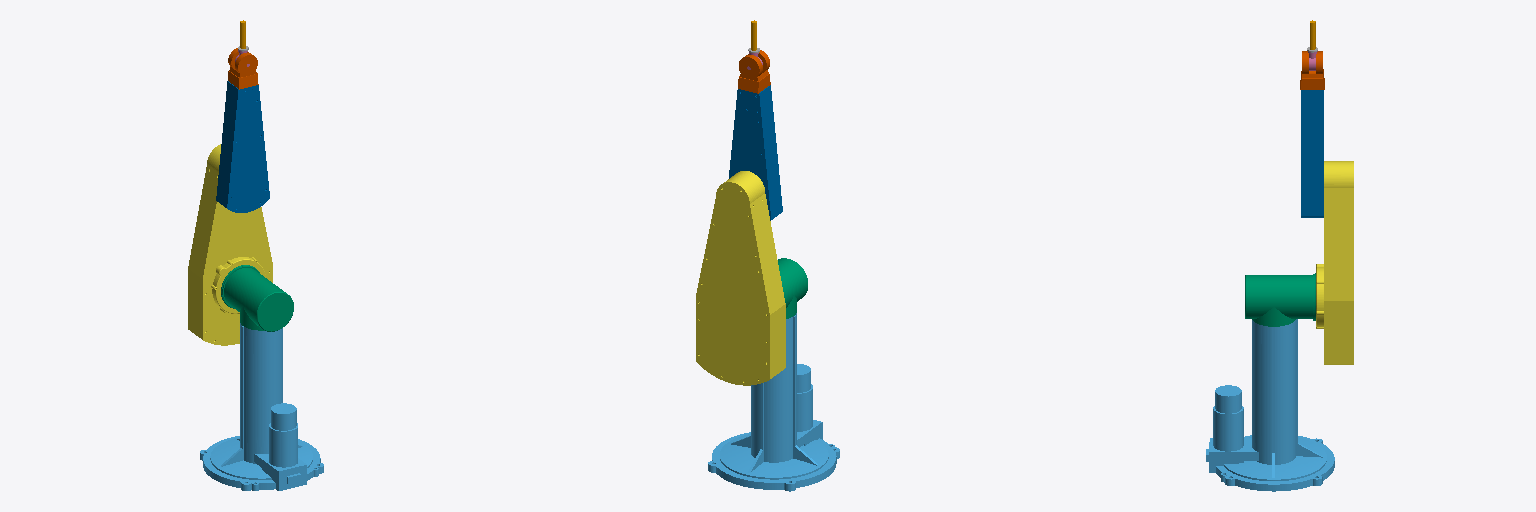
robot.urdf — puma01:
<?xml version="1.0"?>
<robot name="puma01">
  <origin xyz="0.0 0.0 0.0" rpy="0.0 0.0 0.0"/>

<!-- LINKS -->
  <link name="world"/> 
  <joint name="link_link0" type="fixed">
    <!-- <origin xyz="0.0 0.0 0.0" rpy="1.57079632679 0.0 3.14"/> -->
    <origin xyz="0.0 0.0 0.0" rpy="0.0 0.0 0.0"/>
    <parent link="world"/>
    <child link="link0"/>
  </joint>

  <link name="link0">
    <visual>
      <origin xyz="0.0 0.0 0.0" rpy="1.57079632679 0.0 3.14"/>
      <geometry>
        <mesh filename="package://puma01_description/meshes/link0.dae"/>
      </geometry>
    </visual>
    <collision>
      <origin xyz="0.0 0.0 0.0" rpy="1.57079632679 0.0 3.14"/>
      <geometry>
        <mesh filename="package://puma01_description/meshes/link0.dae"/>
      </geometry>
    </collision>
    <inertial>
      <origin xyz="0.0  0.1925 -0.0219" rpy="1.57079632679 0.0 3.14"/>
      <mass value="30.0"/>
      <inertia ixx="1.045642" ixy="0.0" ixz="0.0"  iyy="0.305407" iyz="-0.042116" izz="0.958215"/>
    </inertial>
  </link>
  
  <link name="link1">
    <visual>
      <origin xyz="0.0 0.0 0.0" rpy="0.0 0.0 0.0"/>
      <geometry>
        <mesh filename="package://puma01_description/meshes/link1.dae"/>
      </geometry>
    </visual>
    <collision>
      <origin xyz="0.0 0.0 0.0" rpy="0.0 0.0 0.0"/>
      <geometry>
        <mesh filename="package://puma01_description/meshes/link1.dae"/>
      </geometry>
    </collision>
    <inertial>
      <origin xyz="0.0 0.0225 -0.0028"/>
      <mass value="12"/>
      <inertia ixx="0.073957" ixy="0.0" ixz="0.0"  iyy="0.036037" iyz="-0.000754" izz="0.073514"/>
    </inertial>
  </link>
  
  <link name="link2">
    <visual>
      <origin xyz="0.0 0.0 0.0" rpy="0.0 0.0 0.0"/>
      <geometry>
        <mesh filename="package://puma01_description/meshes/link2.dae"/>
      </geometry>
    </visual>
    <collision>
      <origin xyz="0.0 0.0 0.0" rpy="0.0 0.0 0.0"/>
      <geometry>
        <mesh filename="package://puma01_description/meshes/link2.dae"/>
      </geometry>
    </collision>
    <inertial>
      <origin xyz="0.068 0.006 -0.016"/>
      <mass value="17.4"/>
      <inertia ixx="0.13" ixy="0.0" ixz="0.0"  iyy="0.524" iyz="0.0" izz="0.539"/>
    </inertial>
  </link>
  
  <link name="link3">
    <visual>
      <origin xyz="0.0 0.0 0.0" rpy="0.0 0.0 0.0"/>
      <geometry>
        <mesh filename="package://puma01_description/meshes/link3.dae"/>
      </geometry>
    </visual>
    <collision>
      <origin xyz="0.0 0.0 0.0" rpy="0.0 0.0 0.0"/>
      <geometry>
        <mesh filename="package://puma01_description/meshes/link3.dae"/>
      </geometry>
    </collision>
    <inertial>
      <origin xyz="0.0 -0.07 0.014"/>
      <mass value="4.8"/>
      <inertia ixx="0.076" ixy="0.0" ixz="0.0"  iyy="0.0125" iyz="0.0" izz="0.086"/>
    </inertial>
  </link>
  
  <link name="link4">
    <visual>
      <origin xyz="0.0 0.0 0.0" rpy="0.0 0.0 0.0"/>
      <geometry>
        <mesh filename="package://puma01_description/meshes/link4.dae"/>
      </geometry>
    </visual>
    <collision>
      <origin xyz="0.0 0.0 0.0" rpy="0.0 0.0 0.0"/>
      <geometry>
        <mesh filename="package://puma01_description/meshes/link4.dae"/>
      </geometry>
    </collision>
    <inertial>
      <origin xyz="0.0 0.0 -0.019"/>
      <mass value="0.82"/>
      <inertia ixx="0.0018" ixy="0.0" ixz="0.0"  iyy="0.0018" iyz="0.0" izz="0.0013"/>
    </inertial>
  </link>
  
  <link name="link5">
    <visual>
      <origin xyz="0.0 0.0 0.0" rpy="0.0 0.0 0.0"/>
      <geometry>
        <mesh filename="package://puma01_description/meshes/link5.dae"/>
      </geometry>
    </visual>
      <collision>
      <origin xyz="0.0 0.0 0.0" rpy="0.0 0.0 0.0"/>
      <geometry>
        <mesh filename="package://puma01_description/meshes/link5.dae"/>
      </geometry>
    </collision>
    <inertial>
      <origin xyz="0.0 0.0 0.0"/>
      <mass value="0.34"/>
      <inertia ixx="0.0003" ixy="0.0" ixz="0.0"  iyy="0.0003" iyz="0.0" izz="0.0004"/>
    </inertial>
  </link>
  
  <link name="link6">
    <visual>
      <origin xyz="0.0 0.0 0.0" rpy="0.0 0.0 0.0"/>
      <geometry>
        <mesh filename="package://puma01_description/meshes/link6.dae"/>
      </geometry>
    </visual>
      <collision>
      <origin xyz="0.0 0.0 0.0" rpy="0.0 0.0 0.0"/>
      <geometry>
        <mesh filename="package://puma01_description/meshes/link6.dae"/>
      </geometry>
    </collision>
    <inertial>
      <origin xyz="0.0 0.0 0.032"/>
      <mass value="0.09"/>
      <inertia ixx="0.00015" ixy="0.0" ixz="0.0"  iyy="0.00015" iyz="0.0" izz="0.00004"/>
    </inertial>
  </link>

  <link name="link_T">
    <inertial>
      <mass value="0.001"/>
      <origin rpy="0  0  0" xyz="0  0  0.05"/>
      <inertia ixx="0" ixy="0" ixz="0" iyy="0" iyz="0" izz="0"/>                    
    </inertial>
    <visual>
      <origin rpy="0  0  0" xyz="0 0 0.05"/>
      <geometry>
        <cylinder length="0.1" radius="0.01"/> 
      </geometry>
    </visual>
    <collision>
      <origin rpy="0  0 0" xyz="0 0 0.05"/>
      <geometry>
        <cylinder length="0.1" radius="0.01"/>
      </geometry>
    </collision>
  </link>

<!-- ADVANCED LINK PARAMETERS --> 
    
  <gazebo reference="link1">
    <visual>  
      <material>  
        <ambient>255.0 136.0 0.0 1.0</ambient>  
        <diffuse>245.0 155.0 51.0 1.0</diffuse>  
        <specular>232.0 171.0 102.0 1.0</specular>  
        <emissive>1.7 3.8 4.4 1.0</emissive>  
      </material>  
    </visual>
  </gazebo>
  
  <gazebo reference="link2">
    <visual>  
      <material>  
        <ambient>17.0 38.0 44.0 1.0</ambient>  
        <diffuse>17.0 38.0 44.0 1.0</diffuse>  
        <specular>17.0 38.0 44.0 1.0</specular>  
        <emissive>1.7 3.8 4.4 1.0</emissive>  
      </material>  
    </visual>
  </gazebo>
  
  <gazebo reference="link3">
    <visual>  
      <material>  
        <ambient>255.0 136.0 0.0 1.0</ambient>  
        <diffuse>245.0 155.0 51.0 1.0</diffuse>  
        <specular>232.0 171.0 102.0 1.0</specular>  
        <emissive>1.7 3.8 4.4 1.0</emissive>  
      </material>  
    </visual>
  </gazebo>
  
  <gazebo reference="link4">
    <visual>  
      <material>  
        <ambient>17.0 38.0 44.0 1.0</ambient>  
        <diffuse>17.0 38.0 44.0 1.0</diffuse>  
        <specular>17.0 38.0 44.0 1.0</specular>  
        <emissive>1.7 3.8 4.4 1.0</emissive>  
      </material>  
    </visual>
  </gazebo>
  
  <gazebo reference="link5">
    <visual>  
      <material>  
        <ambient>255.0 136.0 0.0 1.0</ambient>  
        <diffuse>245.0 155.0 51.0 1.0</diffuse>  
        <specular>232.0 171.0 102.0 1.0</specular>  
        <emissive>1.7 3.8 4.4 1.0</emissive>  
      </material>  
    </visual>
  </gazebo>
  
  <gazebo reference="link6">
    <visual>  
      <material>  
        <ambient>17.0 38.0 44.0 1.0</ambient>  
        <diffuse>17.0 38.0 44.0 1.0</diffuse>  
        <specular>17.0 38.0 44.0 1.0</specular>  
        <emissive>1.7 3.8 4.4 1.0</emissive>  
      </material>  
    </visual>
  </gazebo>

  <gazebo reference="link_T">
      <visual>  
      <material>  
        <ambient>17.0 38.0 44.0 1.0</ambient>  
        <diffuse>17.0 38.0 44.0 1.0</diffuse>  
        <specular>17.0 38.0 44.0 1.0</specular>  
        <emissive>1.7 3.8 4.4 1.0</emissive>  
      </material>  
    </visual>
    <kp>600.0</kp>
    <kd>200.0</kd>
    <mu1>0.9</mu1>
    <mu2>0.9</mu2>
    <fdir1>1 0 0</fdir1>
    <maxVel>0.5</maxVel>
    <minDepth>0.003</minDepth>
    <maxContacts>5</maxContacts>
    <gravity>false</gravity>
  </gazebo>

<!-- JOINTS -->    
  <joint name="joint_1" type="revolute">
    <origin xyz="0.0  0.0 0.62357" rpy="0.0 0.0 0.0"/>
    <parent link="link0"/>
    <child link="link1"/>
    <axis xyz="0.0 0.0 1.0"/>
    <dynamics damping="0.5" friction="0.0"/>
    <!-- angle range = 5.585 -->
    <limit effort="150.0" velocity="10.0" lower="-2.79" upper="2.79" />
  </joint>
  
  <joint name="joint_2" type="revolute">
    <origin xyz="0.0 0.2182 0.0" rpy="-1.57079632679 -1.57079632679 0.0"/>
    <parent link="link1"/>
    <child link="link2"/>
    <axis xyz="0.0 0.0 1.0"/>
    <dynamics damping="0.5" friction="0.0"/>
    <!-- angle range = 4.6425 -->
    <limit effort="150.0" velocity="10.0" lower="-2.32" upper="2.32" />   
  </joint>
  
  <joint name="joint_3" type="revolute">
    <origin xyz="0.4318 0.0 -0.0889" rpy="0.0 0.0 1.57079632679"/>
    <parent link="link2"/>
    <child link="link3"/>
    <axis xyz="0.0 0.0 1.0"/>
    <dynamics damping="0.5" friction="0.0"/>
    <!-- angle range = 4.9567 -->
    <limit effort="150.0" velocity="10.0" lower="-2.478" upper="2.478" />
  </joint>
    
  <joint name="joint_4" type="revolute">
    <origin xyz="0.0 -0.43202 0.0" rpy="1.57079632679 0.0 0.0"/>
    <parent link="link3"/>
    <child link="link4"/>
    <axis xyz="0.0 0.0 1.0"/>
    <!-- angle range = 4.8869 -->
    <limit effort="150.0" velocity="10.0" lower="-1.92" upper="2.97" /> <!-- ???? -->
  </joint>
  
  <joint name="joint_5" type="revolute">
    <origin xyz="0.0 0.0 0.0" rpy="-1.57079632679 0.0 0.0"/>
    <parent link="link4"/>
    <child link="link5"/>
    <axis xyz="0.0 0.0 1.0"/>
    <!-- angle range = 3.4906 -->
    <limit effort="150.0" velocity="10.0" lower="-1.74" upper="1.74" />
  </joint>
  
  <joint name="joint_6" type="revolute">
    <origin xyz="0.0 0.0 0.0" rpy="1.57079632679 0.0 0.0"/>
    <parent link="link5"/>
    <child link="link6"/>
    <axis xyz="0.0 0.0 1.0"/>
   <!-- angle range = 9.2851 -->
    <limit effort="150.0" velocity="10.0" lower="-4.64" upper="4.64" /> <!-- ???? -->
  </joint>

  <joint name="joint_6_T" type="revolute">
    <origin xyz="0.0 0.0 0.05334" rpy="0 0 0"/>
    <parent link="link6"/>
    <child link="link_T"/>
    <axis xyz="0.0 0.0 1.0"/>
    <dynamics damping="0.0" friction="0.0"/>
    <limit effort="1.0" velocity="1.0" lower="0" upper="0" />
  </joint>

<!-- ROS CONTROL -->   
  <gazebo>
    <plugin name="gazebo_ros_control" filename="libgazebo_ros_control.so">
    <!-- namespace for simulation -->
    <robotNamespace>/puma01_sim</robotNamespace>
    <legacyModeNS>true</legacyModeNS>
    <robotBaseFrame>link0</robotBaseFrame>
    </plugin>
  </gazebo>

<!-- TRANSMISSIONS -->     
  <transmission name="trans_1">
    <type>transmission_interface/SimpleTransmission</type>
    <joint name="joint_1">
      <hardwareInterface>hardware_interface/EffortJointInterface</hardwareInterface>
    </joint>
    <actuator name="motor_1">
      <mechanicalReduction>1</mechanicalReduction>
    </actuator>
  </transmission>
  
  <transmission name="trans_2">
    <type>transmission_interface/SimpleTransmission</type>
    <joint name="joint_2">
      <hardwareInterface>hardware_interface/EffortJointInterface</hardwareInterface>
    </joint>
    <actuator name="motor_2">
      <mechanicalReduction>1</mechanicalReduction>
    </actuator>
  </transmission>
  
  <transmission name="trans_3">
    <type>transmission_interface/SimpleTransmission</type>
    <joint name="joint_3">
      <hardwareInterface>hardware_interface/EffortJointInterface</hardwareInterface>
    </joint>
    <actuator name="motor_3">
      <mechanicalReduction>1</mechanicalReduction>
    </actuator>
  </transmission>
  
  <transmission name="trans_4">
    <type>transmission_interface/SimpleTransmission</type>
    <joint name="joint_4">
      <hardwareInterface>hardware_interface/EffortJointInterface</hardwareInterface>
    </joint>
    <actuator name="motor_4">
      <mechanicalReduction>1</mechanicalReduction>
    </actuator>
  </transmission>
  
  <transmission name="trans_5">
    <type>transmission_interface/SimpleTransmission</type>
    <joint name="joint_5">
      <hardwareInterface>hardware_interface/EffortJointInterface</hardwareInterface>
    </joint>
    <actuator name="motor_5">
      <mechanicalReduction>1</mechanicalReduction>
    </actuator>
  </transmission>
  
  <transmission name="trans_6">
    <type>transmission_interface/SimpleTransmission</type>
    <joint name="joint_6">
      <hardwareInterface>hardware_interface/EffortJointInterface</hardwareInterface>
    </joint>
    <actuator name="motor_6">
      <mechanicalReduction>1</mechanicalReduction>
    </actuator>
  </transmission>
 
<!-- FORCE/TORQUE SENSOR -->     
  <gazebo reference="joint_6_T">
    <provideFeedback>true</provideFeedback>
  </gazebo>
      
  <gazebo>
    <plugin name="joint_6_T_ft_sensor" filename="libgazebo_ros_ft_sensor.so">
      <updateRate>80</updateRate>
      <topicName>/puma01_sim/ft_sensor</topicName> 
      <jointName>joint_6_T</jointName>
      <force_torque>
        <frame>child</frame>
        <measure_direction>child_to_parent</measure_direction>
      </force_torque>
      <noise>
        <type>gaussian</type>
        <mean>0.0</mean>
        <stddev>0.0</stddev> 
      </noise>
    </plugin>
  </gazebo>
  
</robot>

--- Render facts (derived) ---
The picture shows the robot from 3 angles, left to right: view 1: azimuth 30°, elevation 25°; view 2: azimuth 150°, elevation 25°; view 3: azimuth 270°, elevation 25°; orthographic projection.
Model puma01 with 9 links and 8 joints (7 revolute, 1 fixed), rooted at world, posed every joint at zero.
Visible links, largest first — view 1: link0, link2, link3, link1, link4; view 2: link2, link0, link3, link1, link4; view 3: link0, link2, link1, link3, link4.
Boxes of the visible links, x1=… form: link0: x1=200, y1=323, x2=323, y2=490; link2: x1=188, y1=144, x2=272, y2=345; link3: x1=216, y1=81, x2=269, y2=212; link1: x1=221, y1=265, x2=293, y2=331; link4: x1=228, y1=48, x2=258, y2=89; link2: x1=696, y1=171, x2=785, y2=385; link0: x1=708, y1=313, x2=839, y2=491; link3: x1=729, y1=85, x2=782, y2=220; link1: x1=778, y1=258, x2=807, y2=318; link4: x1=738, y1=50, x2=770, y2=93; link0: x1=1206, y1=319, x2=1334, y2=491; link2: x1=1316, y1=161, x2=1353, y2=364; link1: x1=1245, y1=273, x2=1315, y2=326; link3: x1=1301, y1=90, x2=1323, y2=217; link4: x1=1300, y1=51, x2=1324, y2=89.
Bounding box of the posed robot: 0.4063 × 0.4976 × 1.64 m (x, y, z).
Meshes: 7 distinct files referenced, 7 mesh visuals loaded (7 Collada DAE).